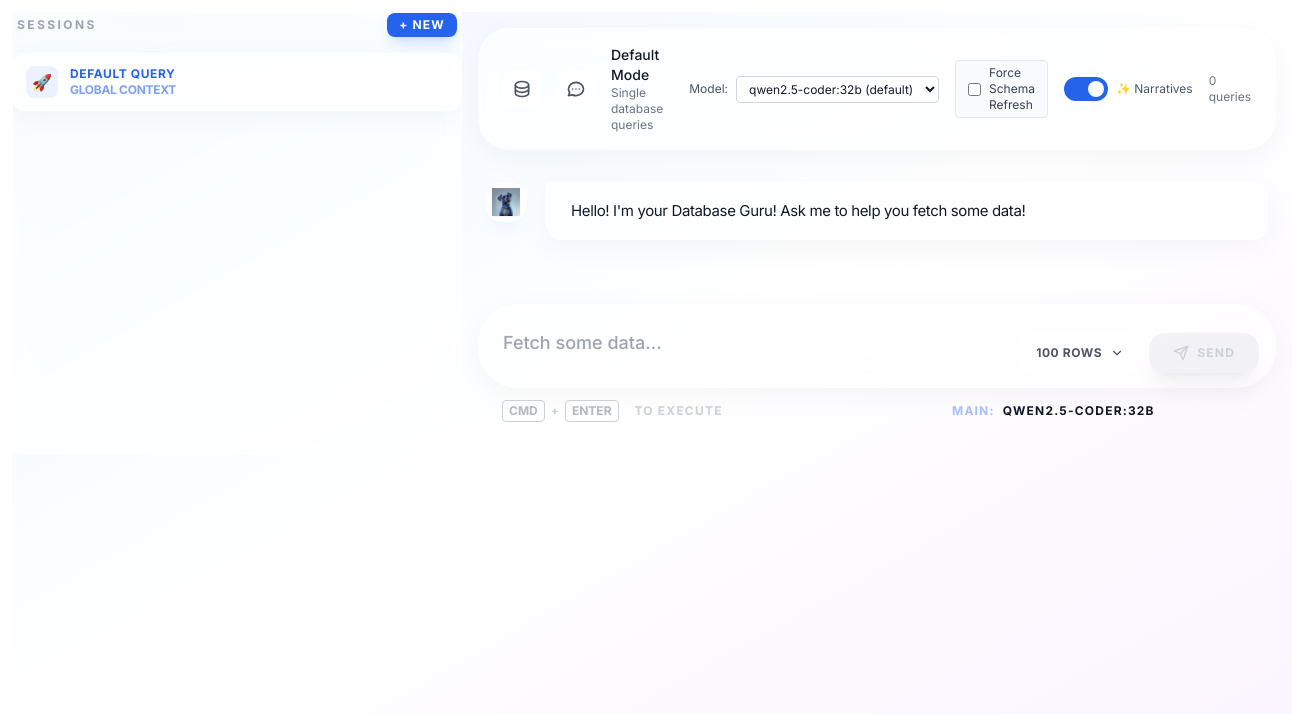
Test: EnhancedChatInterface › Query Submission › adds user message to chat when query is submitted
Type "Show me all users" into the text box with placeholder "Fetch some data..." at (755, 343), box [503, 321, 1007, 365]
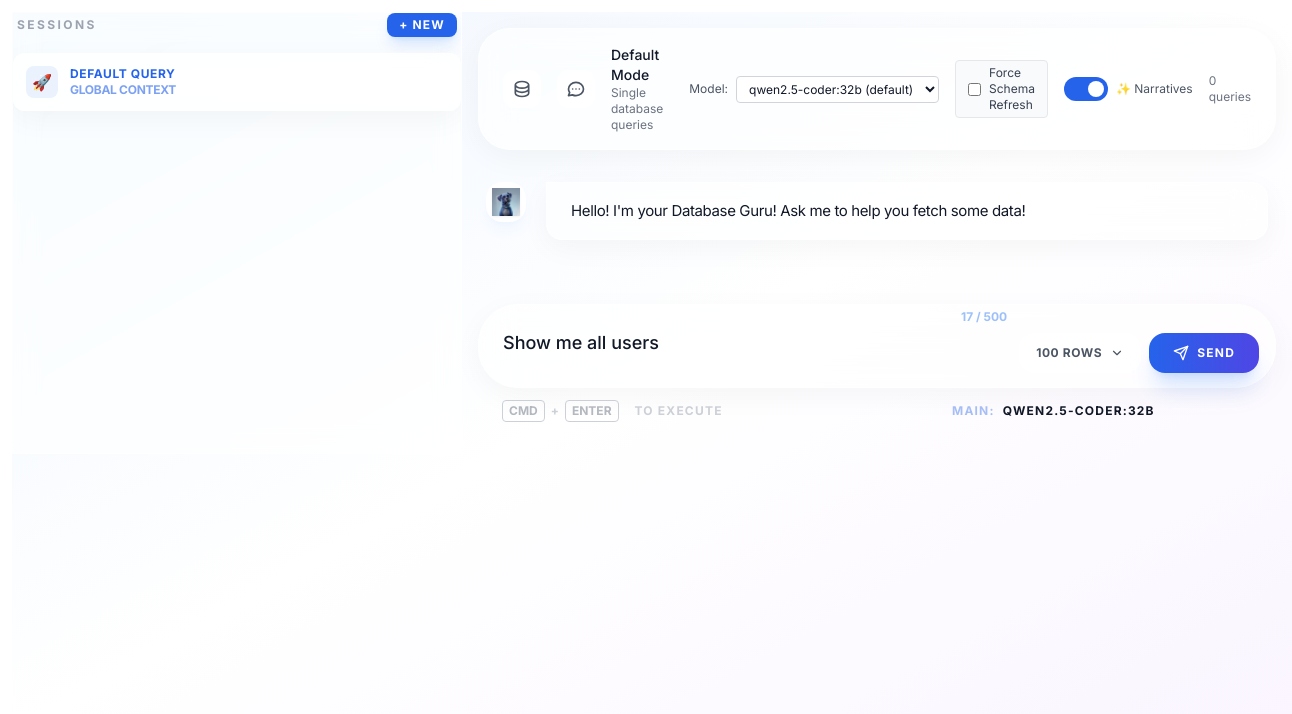
Click the button "SEND" at (1204, 353), box [1149, 333, 1259, 373]
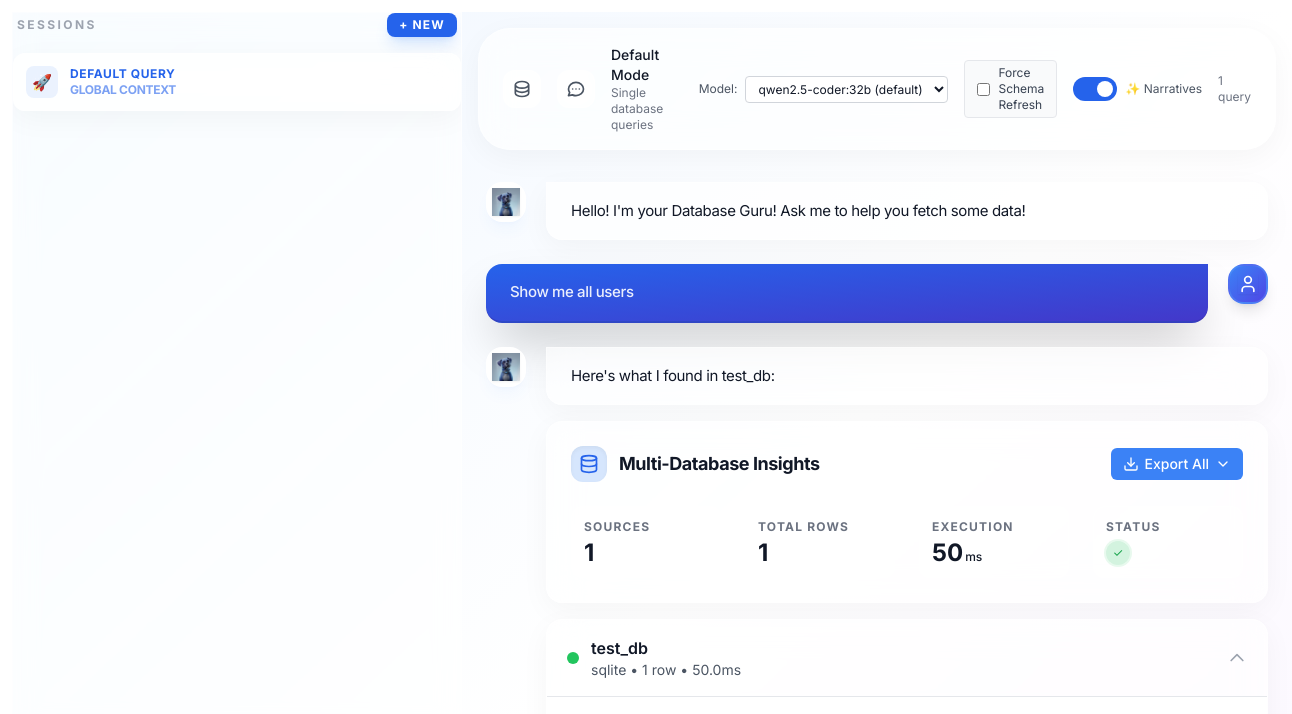
Now the text "Show me all users" is shown, box [510, 282, 634, 301]
